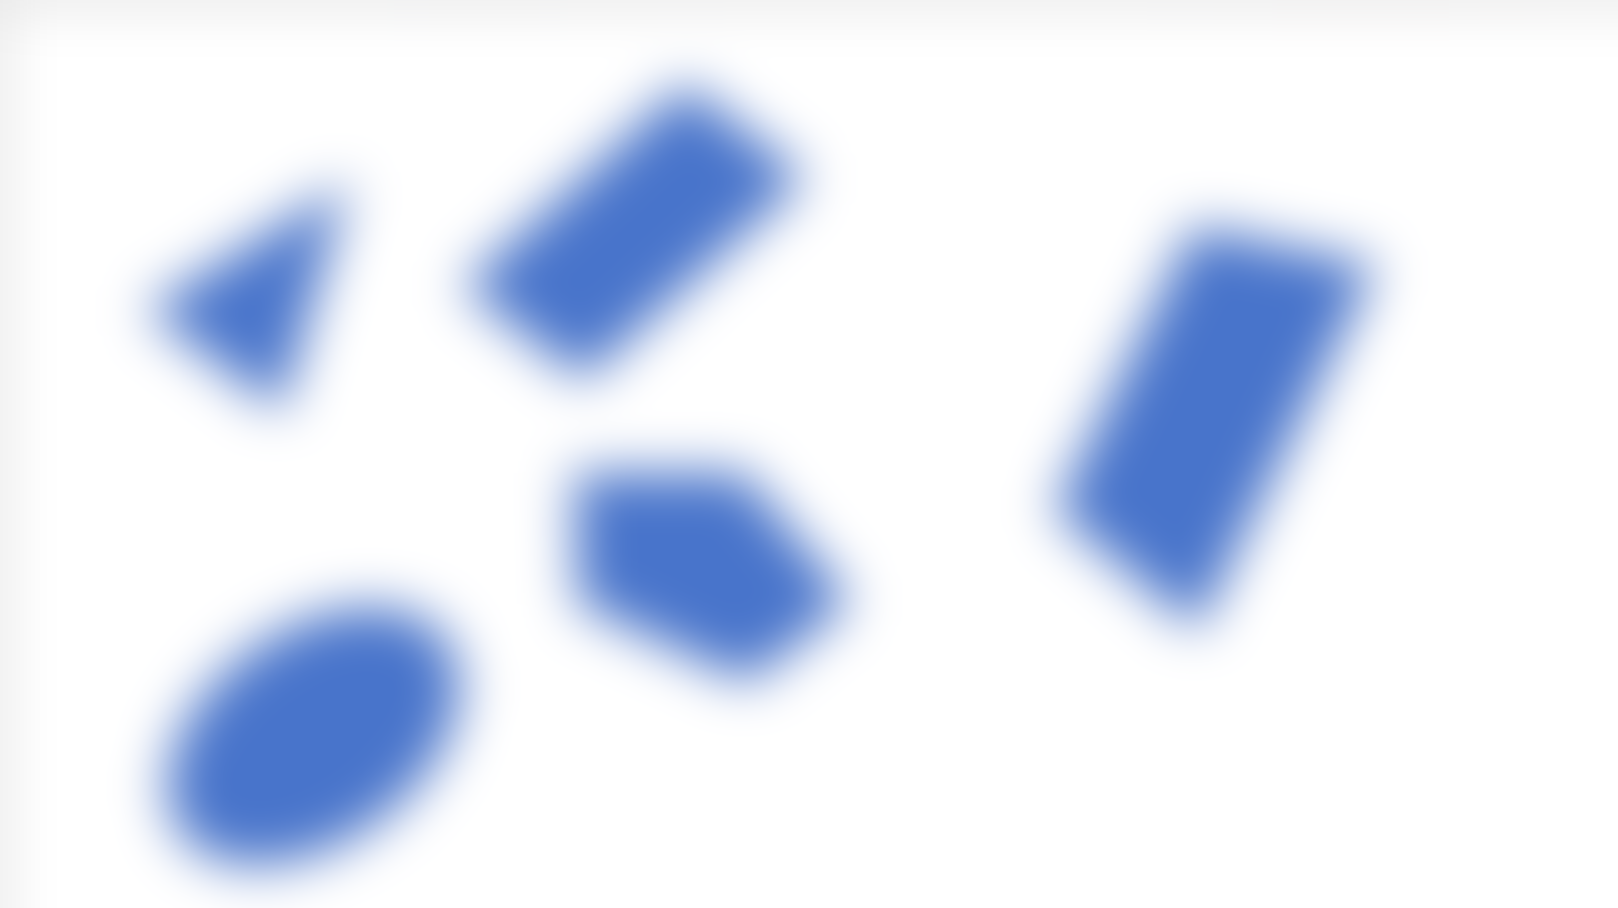circle: (123, 593, 488, 880)
parallelogram: (467, 79, 836, 383)
pentagon: (548, 448, 867, 692)
trapezium: (1023, 184, 1402, 630)
triangle: (143, 194, 371, 395)
